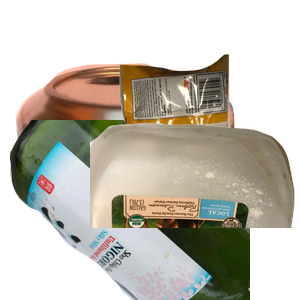glass: (10, 120, 250, 300)
metal: (13, 61, 240, 241)
plastic: (90, 120, 300, 300)
trash: (117, 52, 300, 193)
